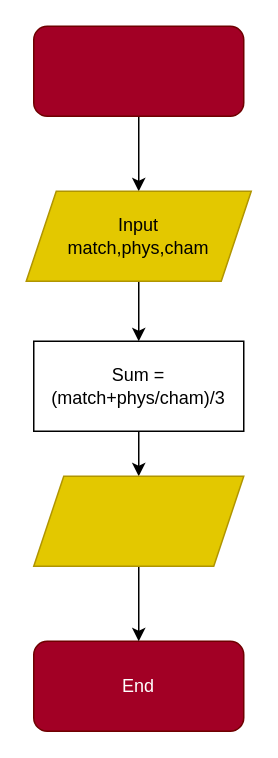
This 278x758 diagram has some shape labels left out. The centre of each missing label's shape, as x and y in pixels:
"Display" belongs at pixel 138 520.
"Start" belongs at pixel 138 70.
